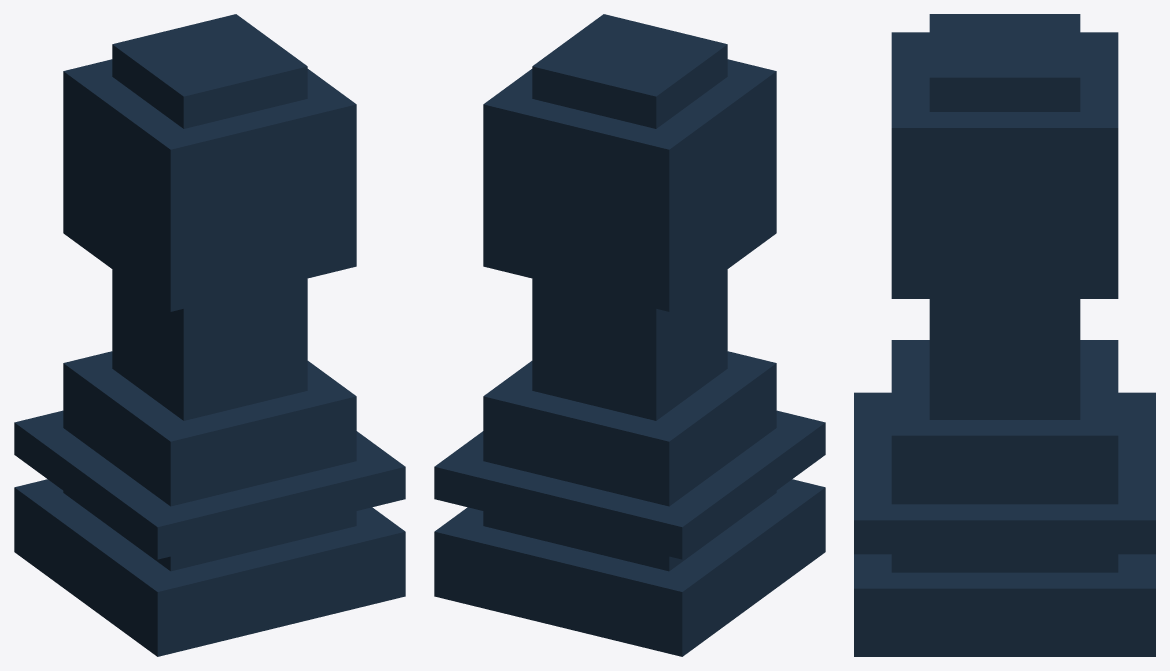
Rendered from token-v1-blue.gltf.
3 renders of one model, left to right at view 1: azimuth 30°, elevation 25°; view 2: azimuth 150°, elevation 25°; view 3: azimuth 270°, elevation 25°, orthographic. The views are drawn at different scales.
Visible parts, largest first — view 1: Untitled; view 2: Untitled; view 3: Untitled.
Part boxes in pixels (box(x1,y1,x2,y2)): Untitled: box(14, 14, 405, 656); Untitled: box(434, 14, 825, 656); Untitled: box(854, 14, 1155, 656).
Size of the model in its own units: 0.8 by 1.6 by 0.8.
Materials: 1 (1 with a texture image).
